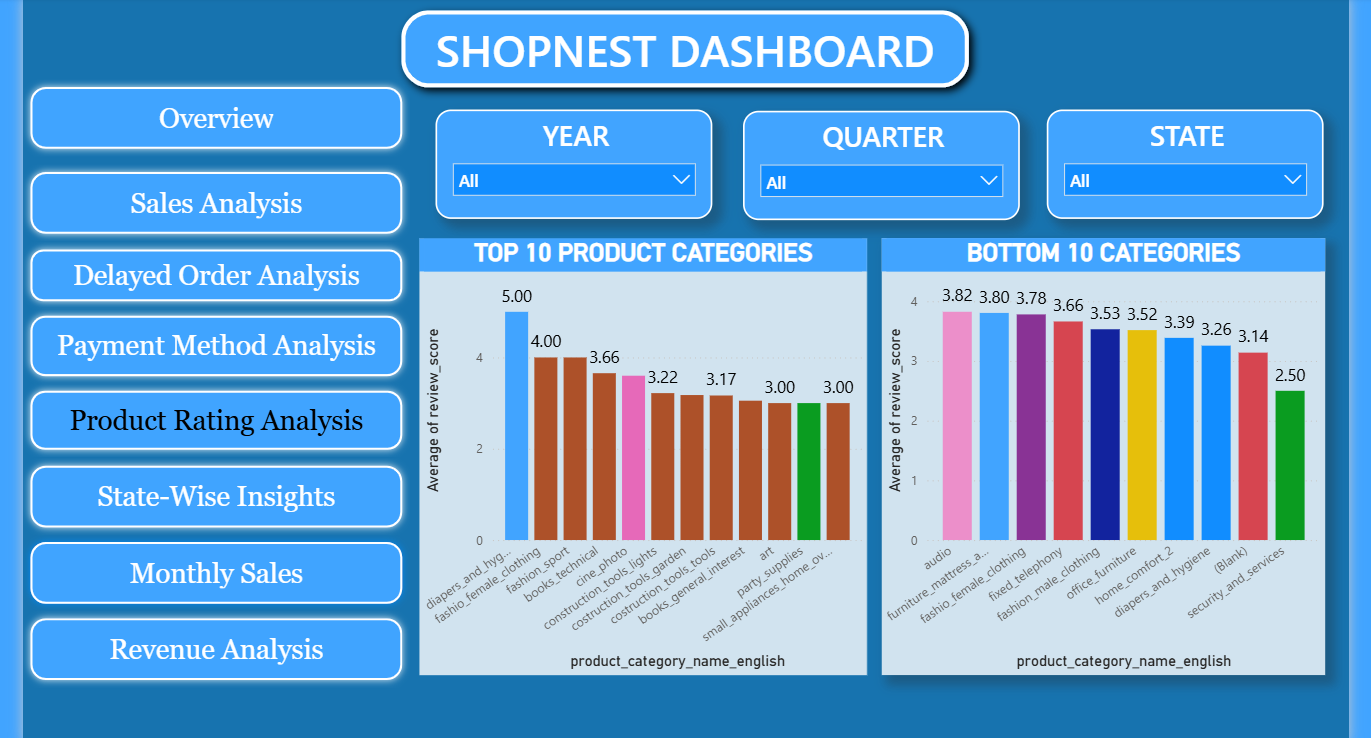

The dashboard page shown, as its layout file describes it:
{"tool":"powerbi","page":{"name":"Product Rating Analysis","canvas":[1280,720],"ordinal":4},"visuals":[{"type":"shape","box":[352.7,0,573.6,100.2],"z":0},{"type":"slicer","title":"YEAR","fields":{"Values":["orders_dataset.Year"]},"box":[397.9,108.4,267.6,105.7],"z":1000},{"type":"slicer","title":"QUARTER","fields":{"Values":["orders_dataset.Quarter"]},"box":[694.3,109.8,267.6,105.7],"z":2000},{"type":"slicer","title":"STATE","fields":{"Values":["orders_dataset.state"]},"box":[988,108.4,267.6,105.7],"z":3000},{"type":"columnChart","title":"TOP 10 PRODUCT CATEGORIES","fields":{"Category":["product_dataset.product_category_name_english"],"Y":["Avg(orders_dataset.review_score)"]},"box":[382.8,233.3,432.2,421.3],"z":4000},{"type":"columnChart","title":"BOTTOM 10 CATEGORIES","fields":{"Category":["product_dataset.product_category_name_english"],"Y":["Avg(orders_dataset.review_score)"]},"box":[828.8,233.3,428.1,421.3],"z":5000},{"type":"shape","box":[0,236,373.2,64.5],"z":6000},{"type":"shape","box":[0,161.9,373.2,74.1],"z":7000},{"type":"shape","box":[0,300.5,373.2,72.7],"z":8000},{"type":"shape","box":[0,444.6,373.2,74.1],"z":9000},{"type":"shape","box":[0,373.2,373.2,71.4],"z":10000},{"type":"shape","box":[0,592.8,373.2,74.1],"z":11000},{"type":"shape","box":[0,518.7,373.2,74.1],"z":12000},{"type":"shape","box":[0,79.6,373.2,74.1],"z":13000}]}

Visuals, with their boxes on the page's 1280x720 design canvas (x1, y1, x2, y2). These are canvas units, not pixel positions in the 1371x738 screenshot, which may show the page scaled, cropped or inside an application window:
shape: [353,0,926,100]
"YEAR" slicer: [398,108,666,214]
"QUARTER" slicer: [694,110,962,216]
"STATE" slicer: [988,108,1256,214]
"TOP 10 PRODUCT CATEGORIES" columnChart: [383,233,815,655]
"BOTTOM 10 CATEGORIES" columnChart: [829,233,1257,655]
shape: [0,236,373,300]
shape: [0,162,373,236]
shape: [0,300,373,373]
shape: [0,445,373,519]
shape: [0,373,373,445]
shape: [0,593,373,667]
shape: [0,519,373,593]
shape: [0,80,373,154]
